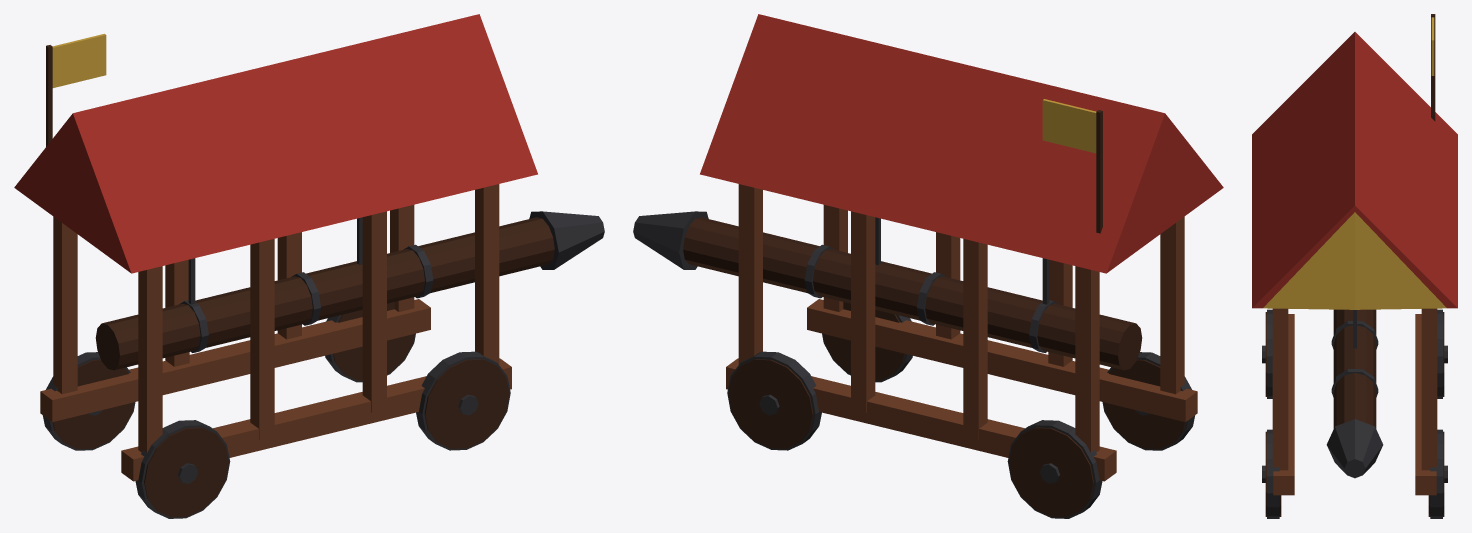
Rendered from taran_xitoy.glb.
3 renders of one model, left to right at view 1: azimuth 30°, elevation 25°; view 2: azimuth 150°, elevation 25°; view 3: azimuth 270°, elevation 25°, orthographic. The views are drawn at different scales.
Parts seen in each view (by area): view 1: Body, Log; view 2: Body, Log; view 3: Body, Log.
Part boxes in pixels (x1,y1,x2,y2): Body: [14, 14, 537, 518]; Log: [95, 211, 604, 370]; Body: [700, 14, 1223, 518]; Log: [633, 211, 1142, 370]; Body: [1252, 14, 1457, 518]; Log: [1326, 309, 1383, 478].
Bounding box in the file's own units: 7.5 × 5.63 × 2.9.
